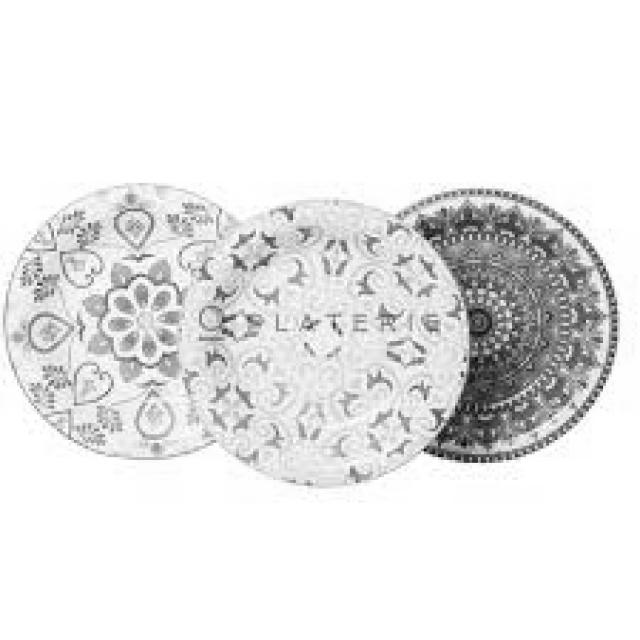dish: (130, 162, 630, 496)
